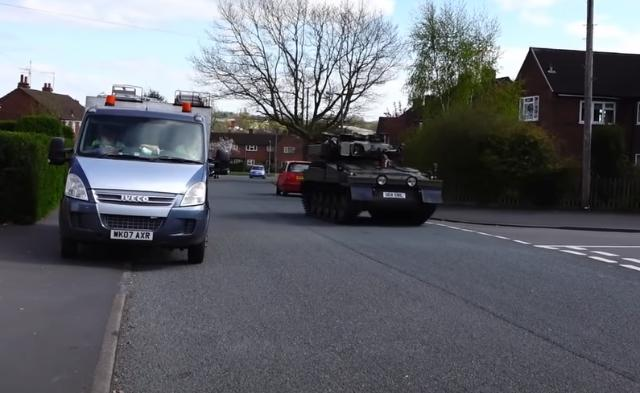tank: (306, 131, 442, 226)
